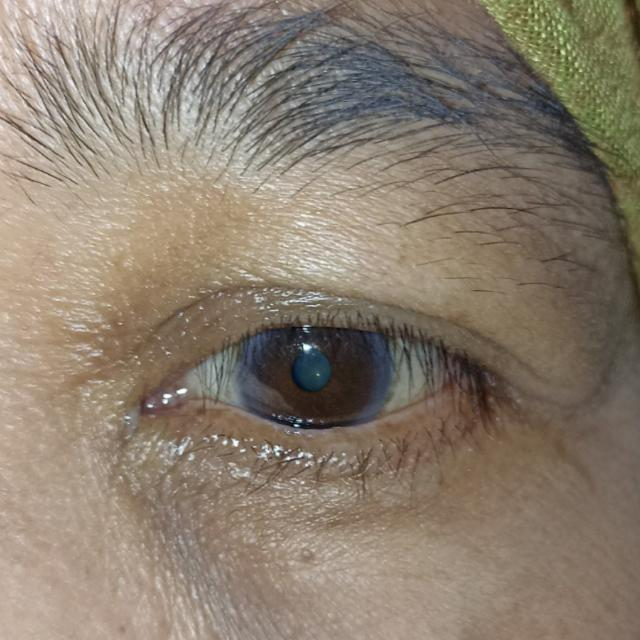Normal: (237, 286, 394, 452)
